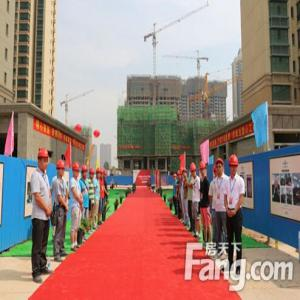red: (37, 148, 51, 172), (228, 153, 240, 178), (56, 159, 66, 179), (215, 157, 225, 177), (72, 163, 81, 181), (198, 160, 207, 178), (190, 161, 198, 179), (88, 166, 96, 181), (82, 163, 88, 180), (96, 168, 102, 181), (183, 168, 189, 181), (103, 168, 108, 180)
